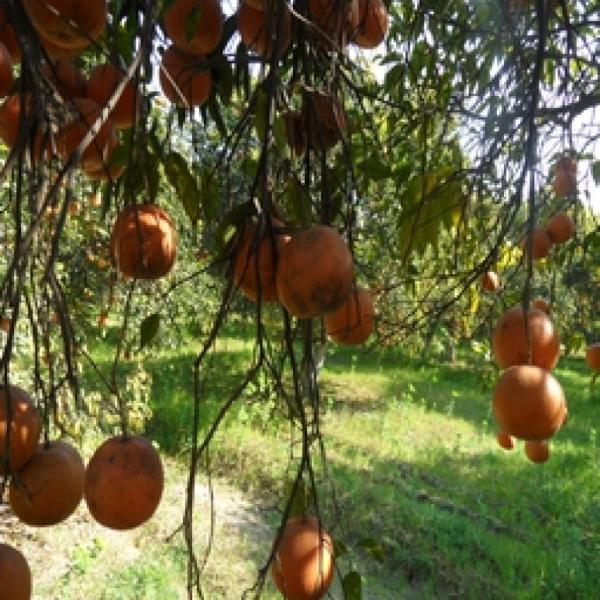Canker: (82, 430, 169, 537), (3, 437, 88, 538), (272, 219, 352, 326), (103, 200, 190, 281), (222, 213, 288, 300), (0, 377, 53, 472), (18, 0, 109, 55), (0, 540, 40, 599)
Sana: (265, 506, 339, 600), (489, 359, 570, 444), (487, 307, 566, 376), (155, 43, 225, 120), (78, 61, 152, 128), (52, 117, 130, 179), (230, 0, 300, 63), (0, 84, 58, 160), (322, 281, 377, 351), (160, 0, 227, 54)
